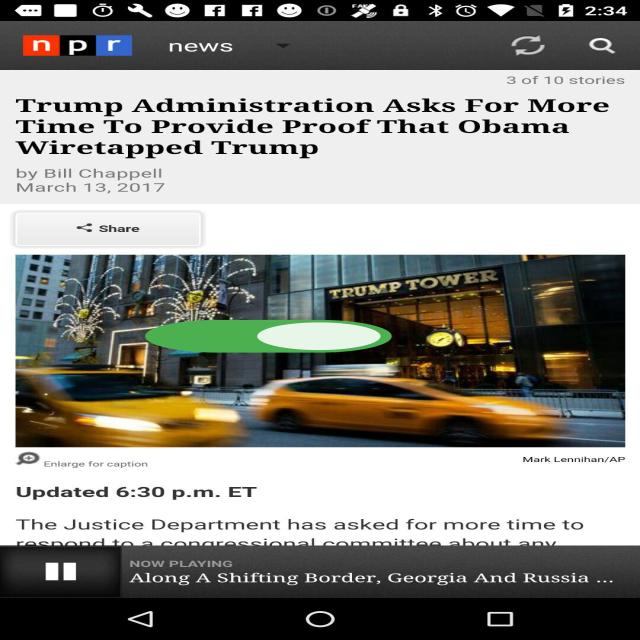social proof: (134, 307, 403, 368)
